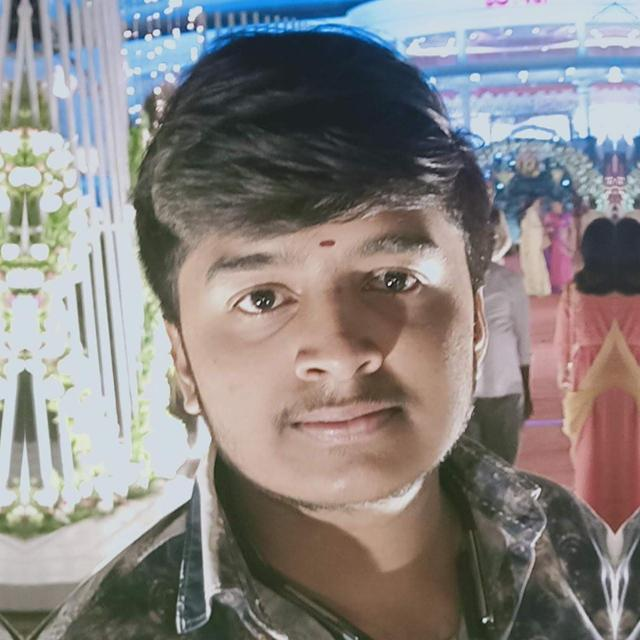person: (97, 30, 517, 542)
